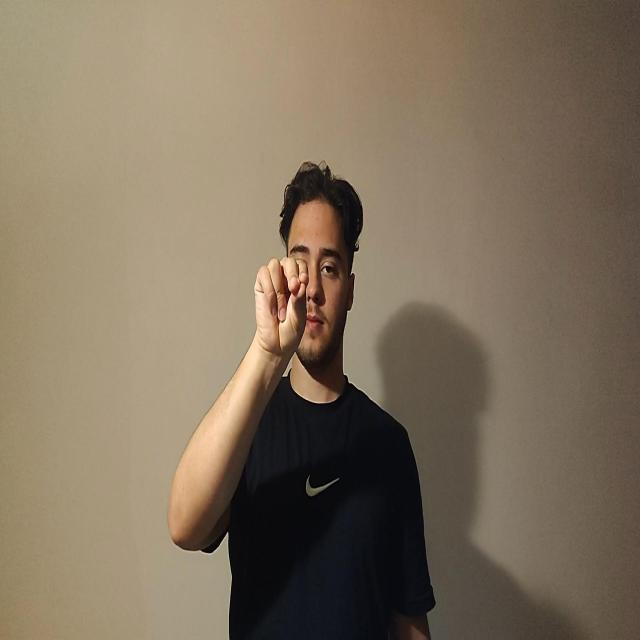no: (254, 255, 308, 358)
